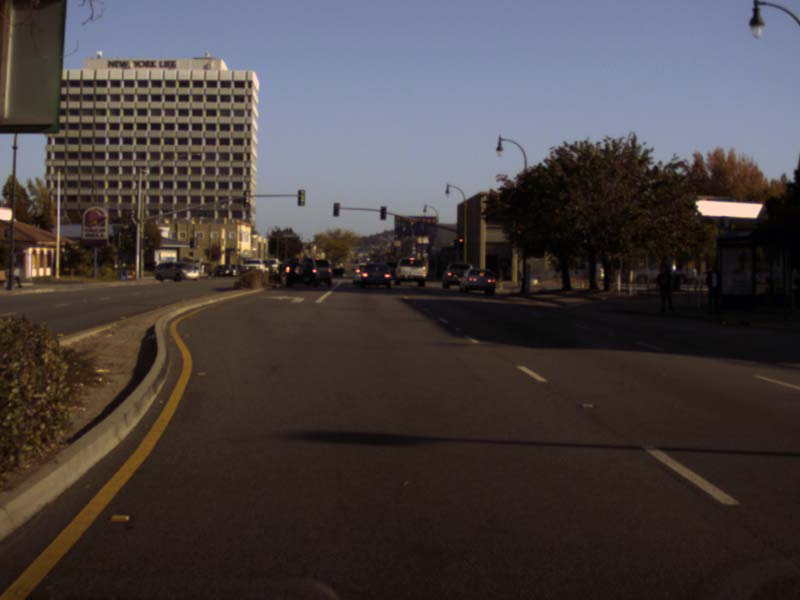Red: (515, 230, 522, 247), (458, 236, 464, 251), (333, 202, 339, 215)
